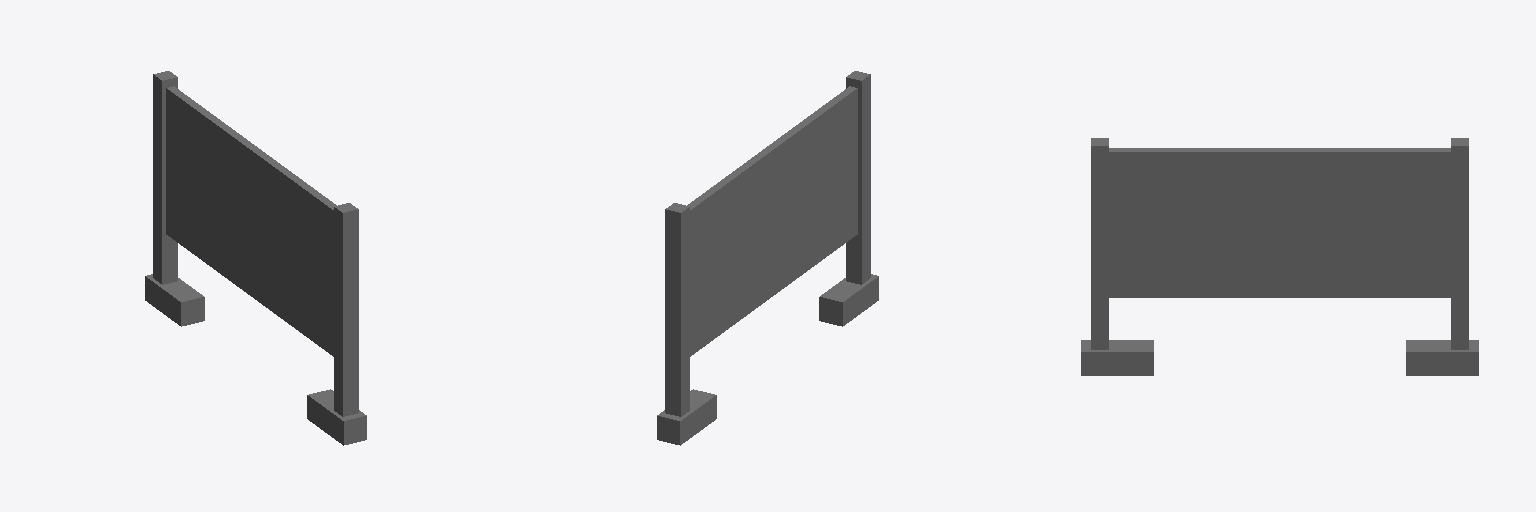
3 renders of one model, left to right at view 1: azimuth 30°, elevation 25°; view 2: azimuth 150°, elevation 25°; view 3: azimuth 270°, elevation 25°, orthographic.
Visible parts, largest first — view 1: Tablica_Cube.005; view 2: Tablica_Cube.005; view 3: Tablica_Cube.005.
Boxes of the visible parts, <box> form: Tablica_Cube.005: <box>145,71,366,445</box>; Tablica_Cube.005: <box>657,71,878,445</box>; Tablica_Cube.005: <box>1081,138,1478,375</box>.
Bounding box in the file's own units: 0.409 × 3.81 × 6.
Materials: 1 (1 with a texture image).